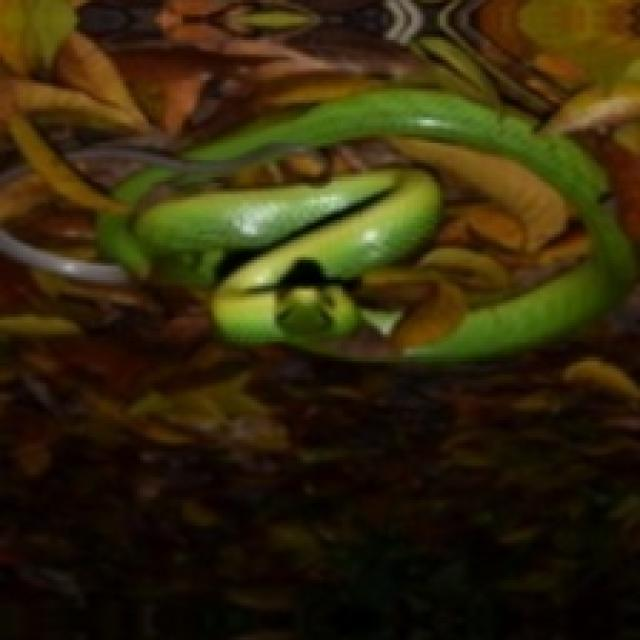red-tailed green ratsnake: (46, 89, 631, 360)
